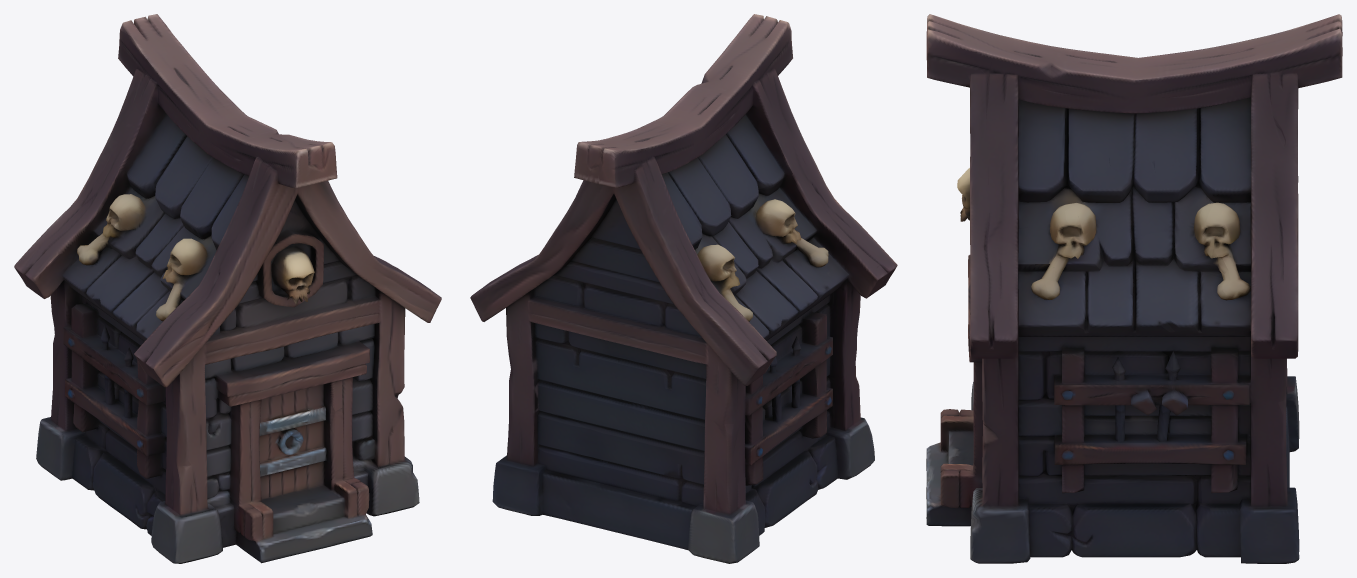
File: base_basic_shaded.fbx
3 views of the same model, side by side, from view 1: azimuth 30°, elevation 25°; view 2: azimuth 150°, elevation 25°; view 3: azimuth 270°, elevation 25° (orthographic). The views are drawn at different scales.
Parts seen in each view (by area): view 1: model; view 2: model; view 3: model.
Part boxes in pixels (bbox=[...]): model: bbox=[14, 14, 441, 563]; model: bbox=[470, 14, 897, 563]; model: bbox=[926, 14, 1342, 563].
Size of the model in its own units: 138 by 185 by 148.
